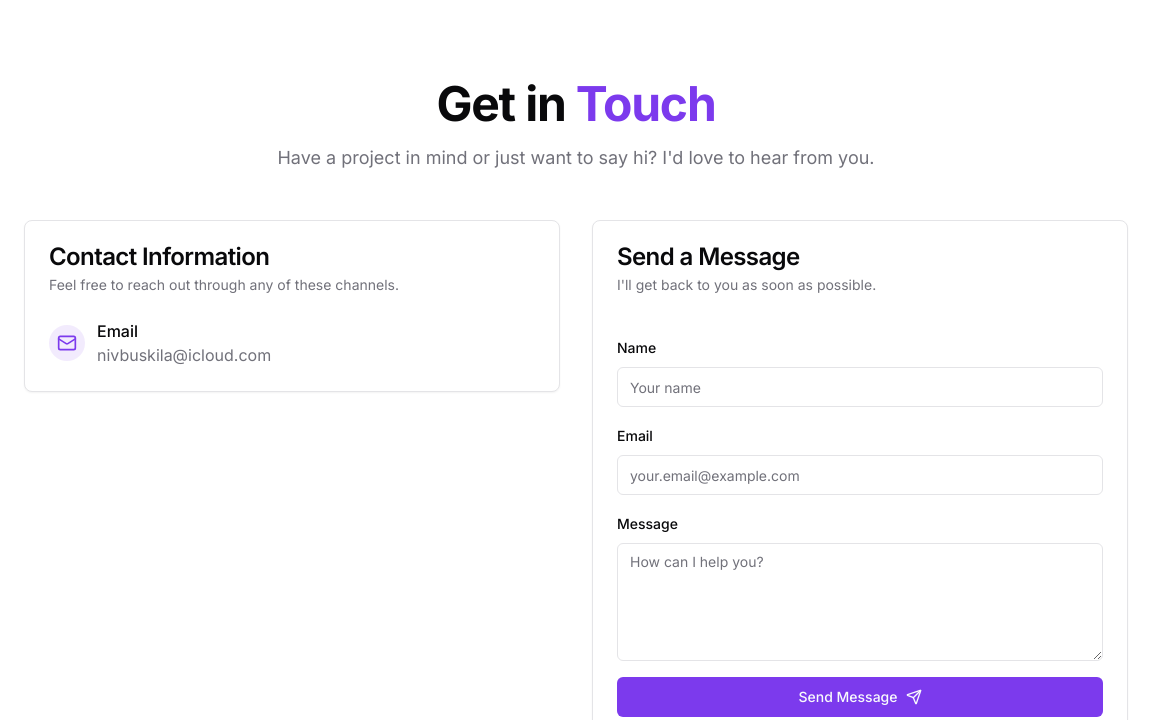
Test: Contact › validates required fields
Note: Click submit without filling any fields
Click the button "Send Message": (860, 697) [617,677,1103,717]
(page scrolled)
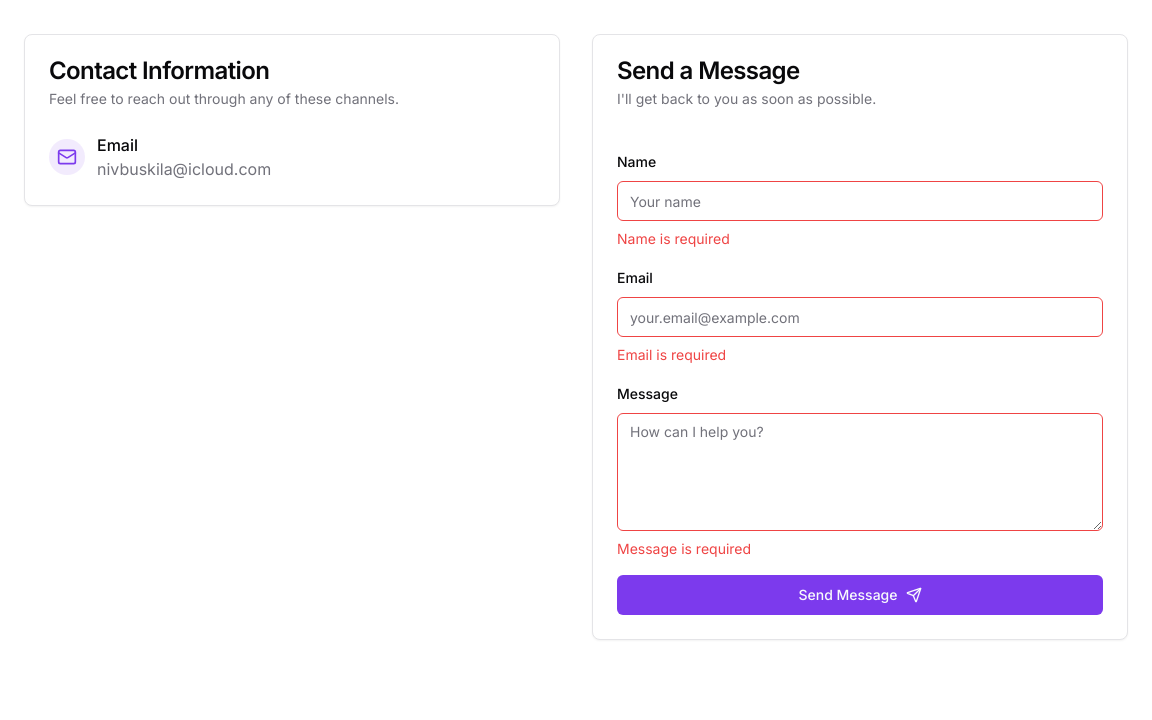
Check: the text "Name is required" is shown, box [617,230,730,247]
Check: the text "Email is required" is shown, box [617,346,726,363]
Check: the text "Message is required" is shown, box [617,540,751,557]
